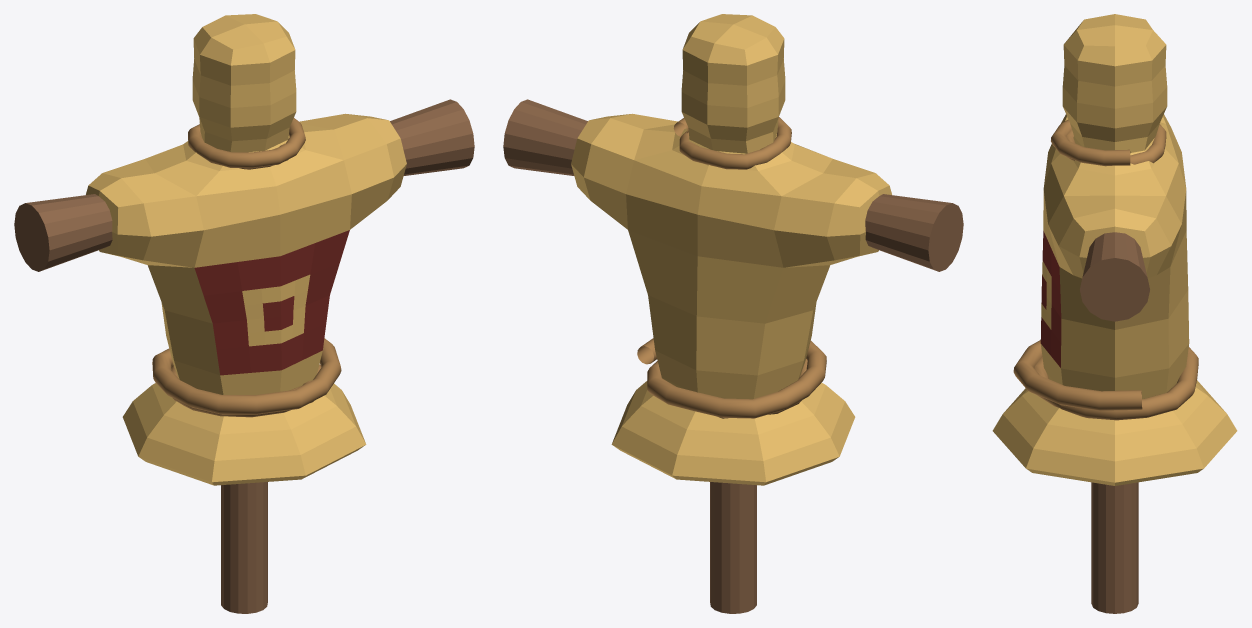
The model's file is bs-scarecrow.fbx.
The picture shows the model from 3 angles, left to right: view 1: azimuth 30°, elevation 25°; view 2: azimuth 150°, elevation 25°; view 3: azimuth 270°, elevation 25°; orthographic projection.
Parts seen in each view (by area): view 1: Spiral.001; view 2: Spiral.001; view 3: Spiral.001.
Boxes of the visible parts, box(x1,y1,x2,y2) form: Spiral.001: box(14, 14, 474, 613); Spiral.001: box(503, 14, 963, 613); Spiral.001: box(992, 14, 1237, 613).
Bounding box in the file's own units: 196 × 256 × 98.04.
